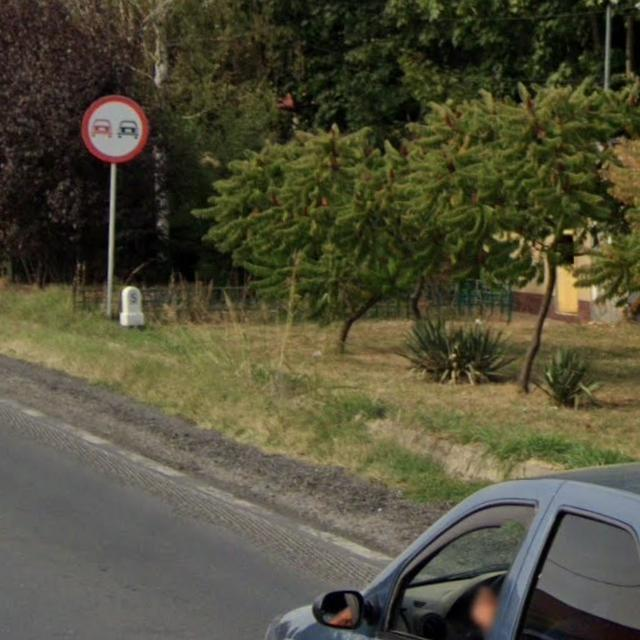forb_overtake: (79, 94, 150, 164)
